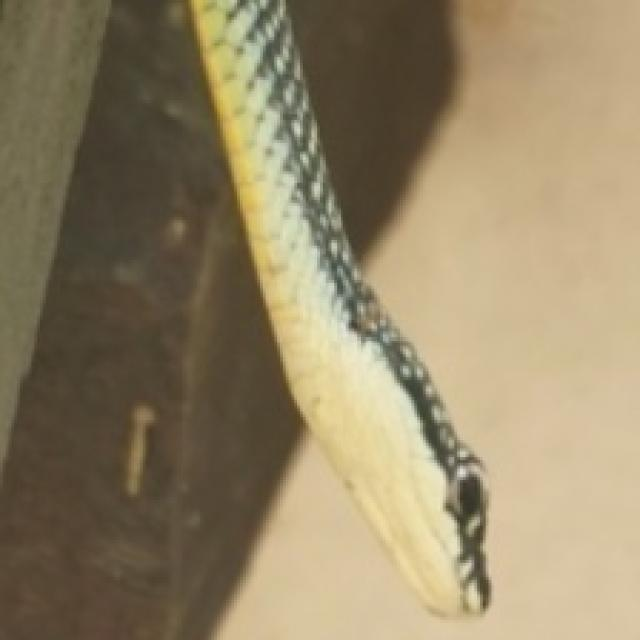paradise tree snake: (0, 0, 297, 637), (191, 0, 489, 614), (291, 0, 446, 229)
